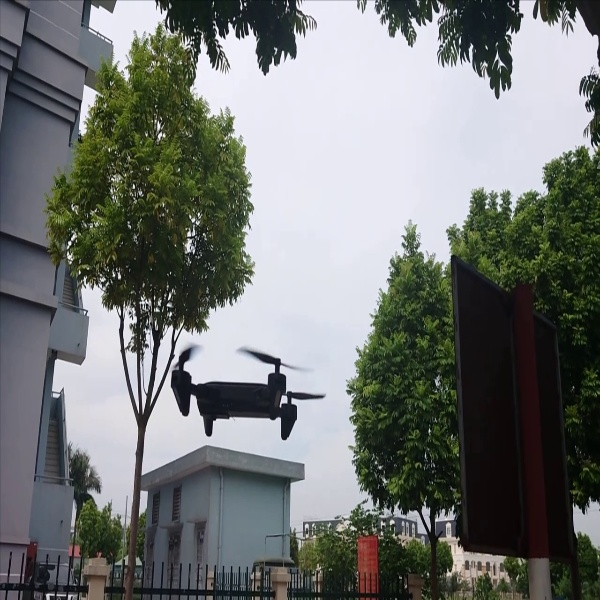drone: (171, 338, 336, 446)
